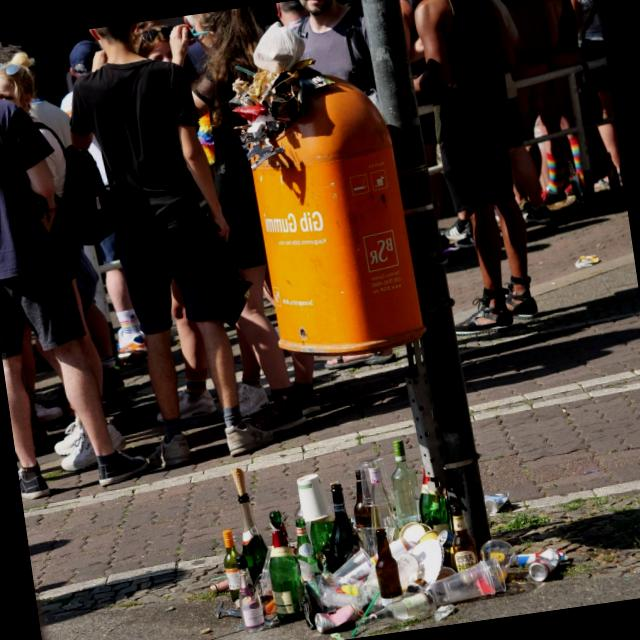garbage: (186, 392, 548, 640), (213, 1, 353, 167)
